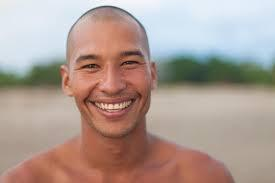Awake: (51, 5, 161, 137)
